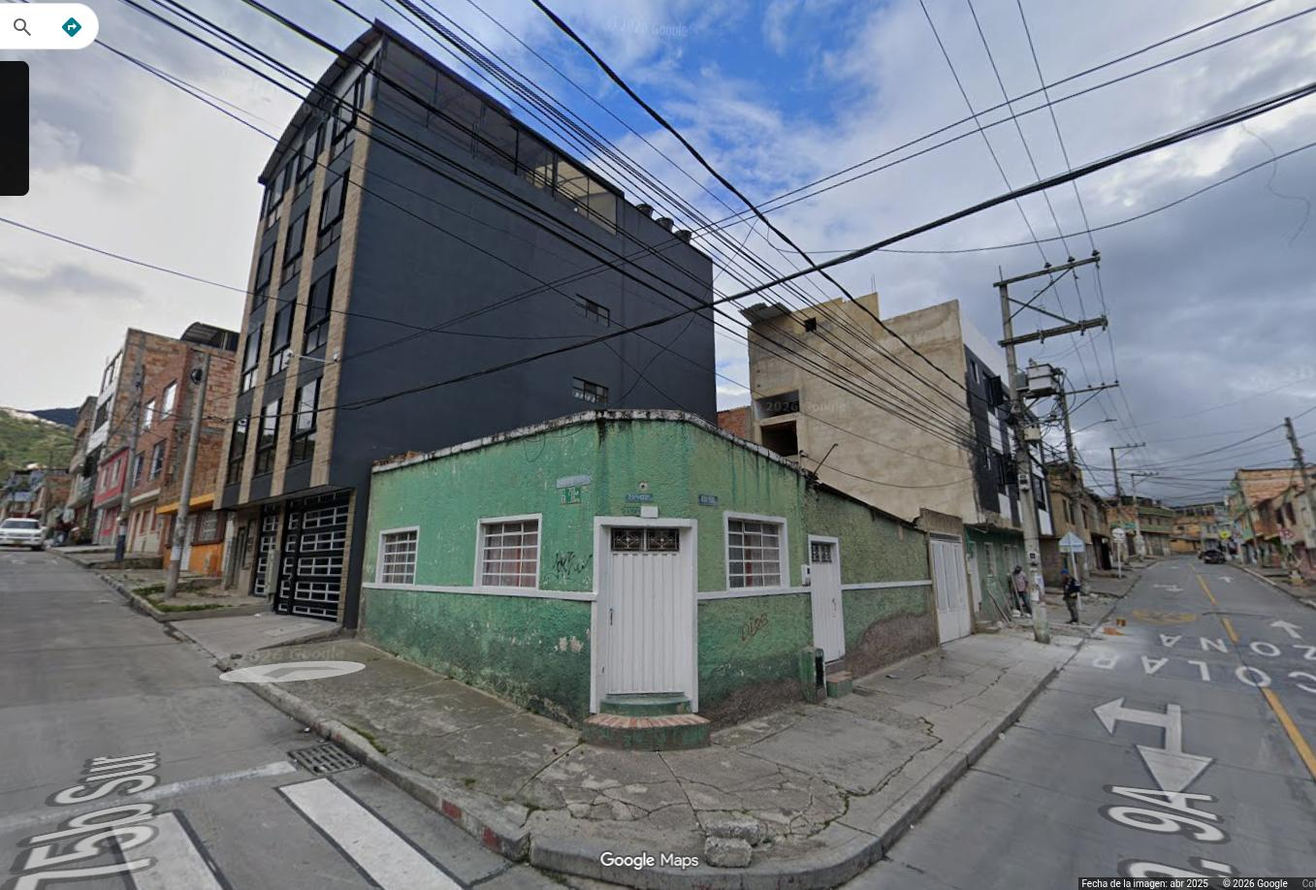casa: (216, 24, 552, 626), (359, 411, 944, 750), (86, 323, 238, 552)
poste: (995, 253, 1107, 643), (164, 356, 210, 596), (1285, 418, 1315, 553), (1111, 443, 1143, 526)
